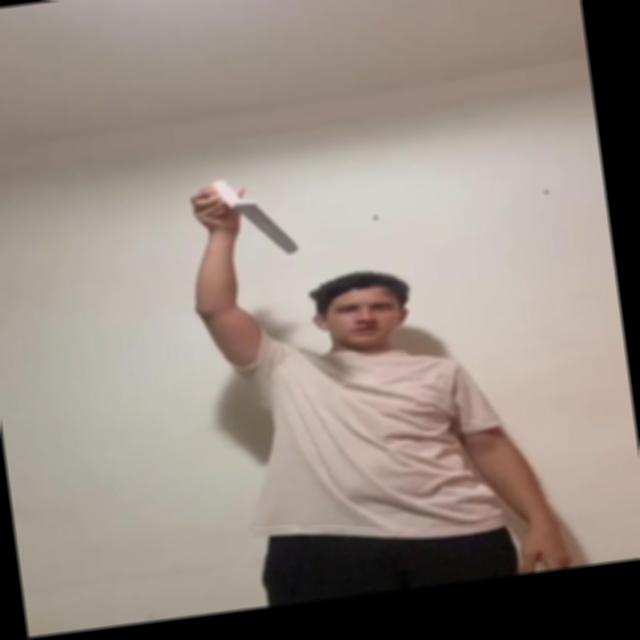Sharp-Object: (241, 197, 298, 258)
